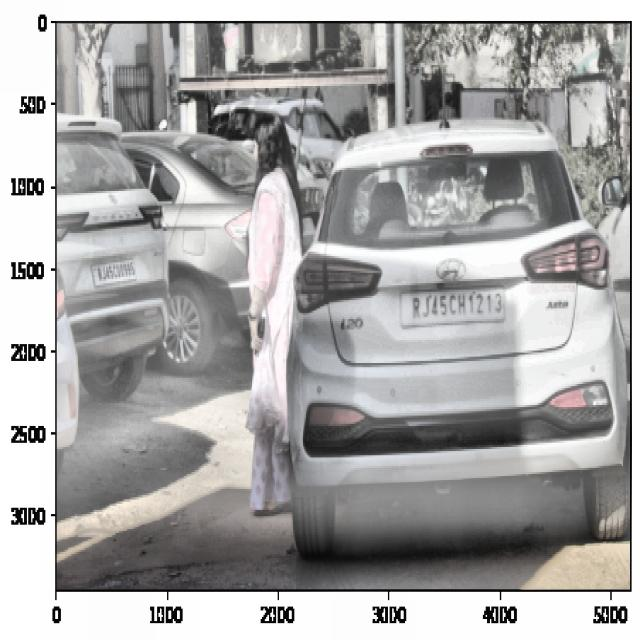license_plate: (407, 290, 503, 328)
